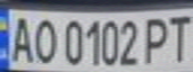0: (60, 16, 84, 66), (100, 16, 121, 68)
1: (81, 16, 103, 66)
2: (118, 16, 142, 68)
A: (3, 12, 36, 64)
O: (27, 15, 60, 65)
P: (139, 14, 175, 65)
T: (163, 11, 193, 63)
